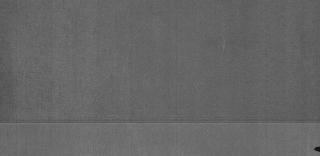punching hole: (312, 146, 320, 152)
welding line: (1, 119, 319, 127)
